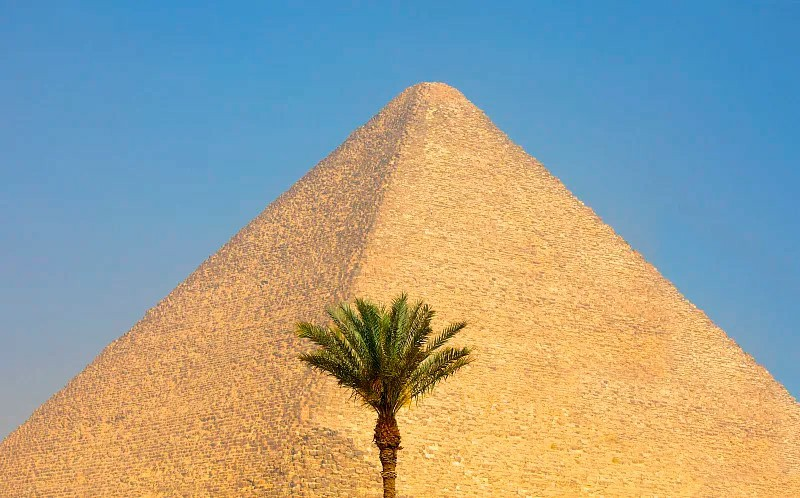Pyramid: (1, 83, 800, 498)
